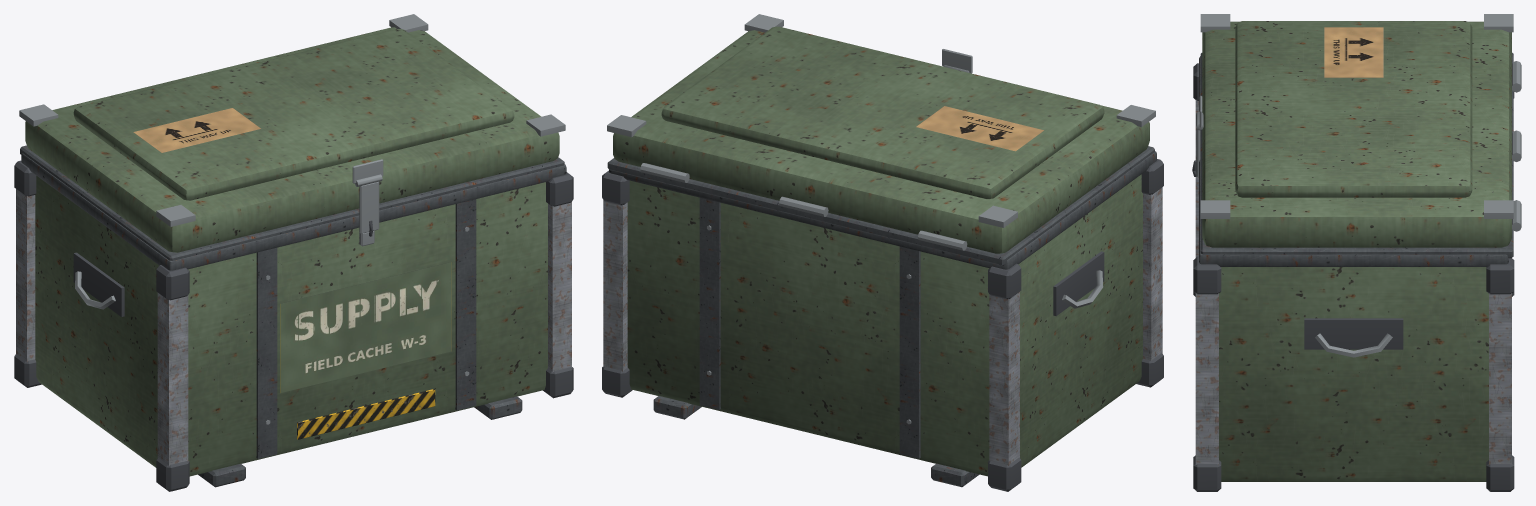
The model's file is loot_cache_woodland.gltf.
The picture shows the model from 3 angles, left to right: view 1: azimuth 30°, elevation 25°; view 2: azimuth 150°, elevation 25°; view 3: azimuth 270°, elevation 25°; orthographic projection. The views are drawn at different scales.
Visible parts, largest first — view 1: Cache_Body, Cache_Lid, Cache_Latch; view 2: Cache_Body, Cache_Lid; view 3: Cache_Lid, Cache_Body, Cache_Latch.
Boxes of the visible parts, x1=… form: Cache_Body: x1=14, y1=153, x2=573, y2=491; Cache_Lid: x1=19, y1=14, x2=565, y2=260; Cache_Latch: x1=352, y1=159, x2=383, y2=236; Cache_Body: x1=602, y1=151, x2=1163, y2=491; Cache_Lid: x1=607, y1=14, x2=1155, y2=265; Cache_Lid: x1=1200, y1=14, x2=1521, y2=258; Cache_Body: x1=1193, y1=56, x2=1514, y2=491; Cache_Latch: x1=1192, y1=96, x2=1203, y2=177.
Size of the model in its own units: 1.51 by 1 by 1.
Materials: 5 (5 with a texture image).
